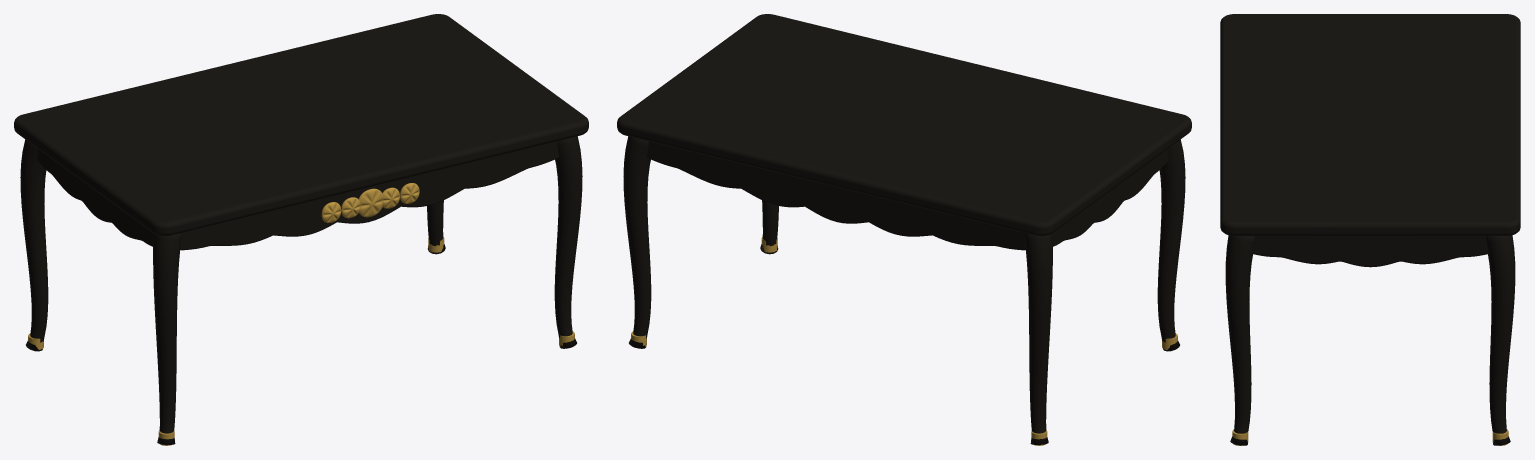
File: talat-royal-tea-set--centre.glb
The picture shows the model from 3 angles, left to right: view 1: azimuth 30°, elevation 25°; view 2: azimuth 150°, elevation 25°; view 3: azimuth 270°, elevation 25°; orthographic projection.
Visible parts, largest first — view 1: top, apron-1, leg-1-1, leg1-1, leg-11, apronside-1, leg11, flower2; view 2: top, apron1, leg-11, leg11, leg-1-1, apronside-1, leg1-1; view 3: top, apronside1, leg11, leg1-1.
Boxes of the visible parts, x1,y1,x2,y2 form: top: (14,14,588,235); apron-1: (180,141,559,250); leg-1-1: (153,233,181,444); leg1-1: (554,136,582,348); leg-11: (20,139,48,351); apronside-1: (37,149,153,246); leg11: (427,200,445,254); flower2: (358,188,382,217); top: (617,14,1191,235); apron1: (646,141,1025,250); leg-11: (1024,233,1052,444); leg11: (623,136,651,348); leg-1-1: (1157,139,1185,351); apronside-1: (1052,149,1168,246); leg1-1: (760,200,778,254); top: (1220,14,1520,235); apronside1: (1252,236,1488,267); leg11: (1486,235,1515,445); leg1-1: (1225,235,1254,445).
Bounding box in the file's own units: 1 × 0.5043 × 0.6.
